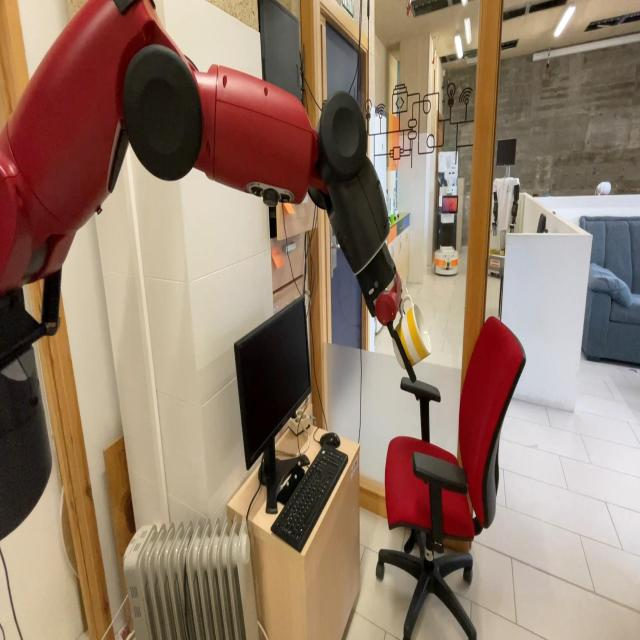cup: (389, 294, 432, 371)
